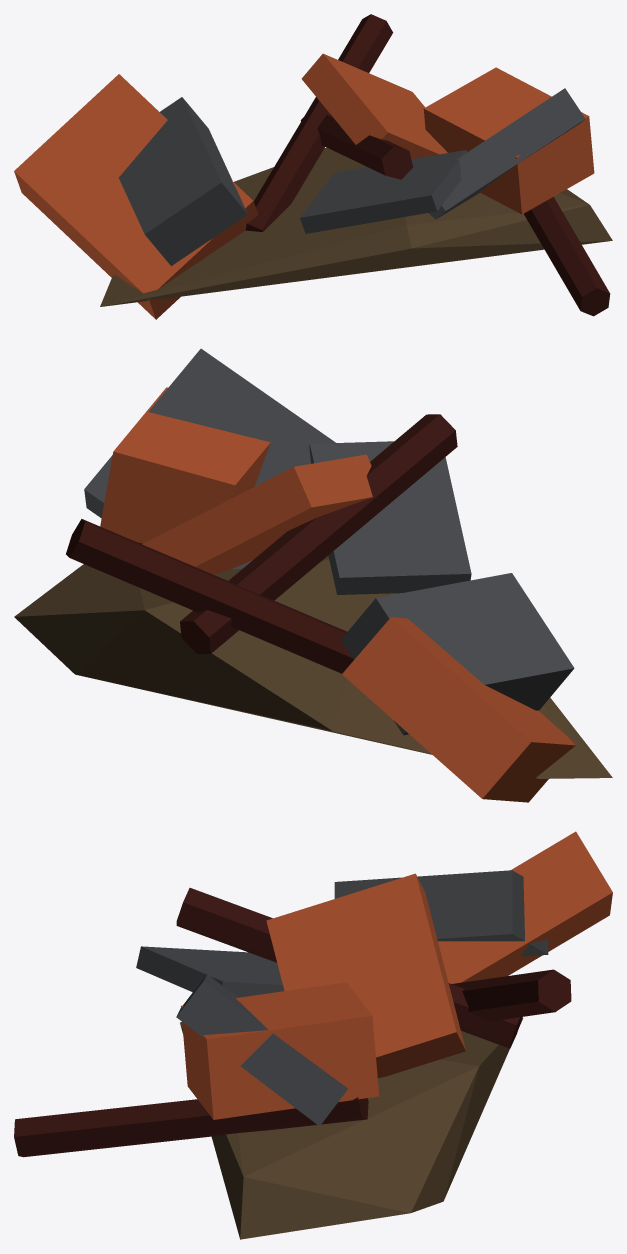
The model's file is scablands_scrap_heap.glb.
3 renders of one model, top to bottom at view 1: azimuth 30°, elevation 25°; view 2: azimuth 150°, elevation 25°; view 3: azimuth 270°, elevation 25°, orthographic. The views are drawn at different scales.
Parts seen in each view (by area): view 1: scablands_scrap_heap; view 2: scablands_scrap_heap; view 3: scablands_scrap_heap.
Boxes of the visible parts, x1,y1,x2,y2 form: scablands_scrap_heap: [14, 14, 612, 319]; scablands_scrap_heap: [14, 348, 612, 802]; scablands_scrap_heap: [14, 831, 612, 1239].
Bounding box in the file's own units: 1.86 × 0.8405 × 1.68.
